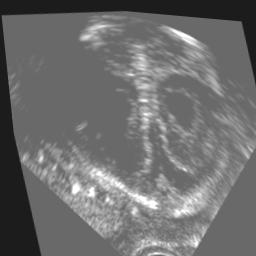abnormal: (32, 2, 249, 221)
